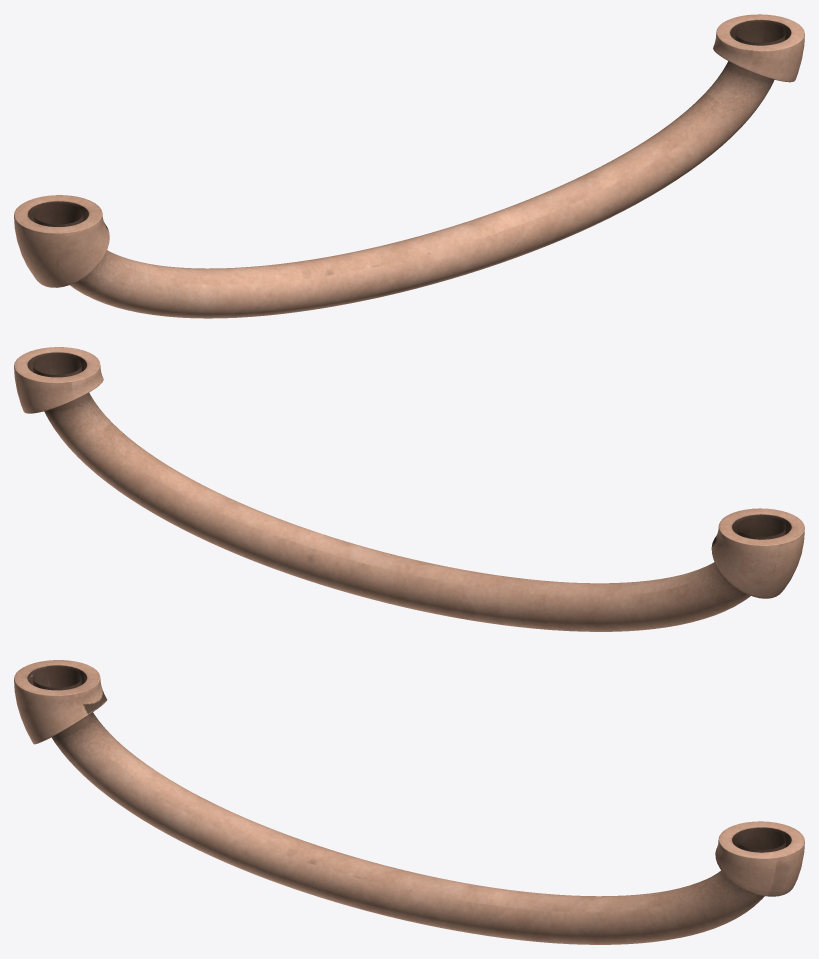
The model's file is _wallPipe2.fbx.
The picture shows the model from 3 angles, top to bottom: view 1: azimuth 30°, elevation 25°; view 2: azimuth 150°, elevation 25°; view 3: azimuth 330°, elevation 25°; orthographic projection. The views are drawn at different scales.
Visible parts, largest first — view 1: Wallpipe2.004; view 2: Wallpipe2.004; view 3: Wallpipe2.004.
Boxes of the visible parts, left/top/right/bottom form: Wallpipe2.004: left=14, top=14, right=804, bottom=318; Wallpipe2.004: left=14, top=347, right=804, bottom=631; Wallpipe2.004: left=14, top=660, right=804, bottom=944.
Size of the model in its own units: 55867 by 11143 by 6700.
